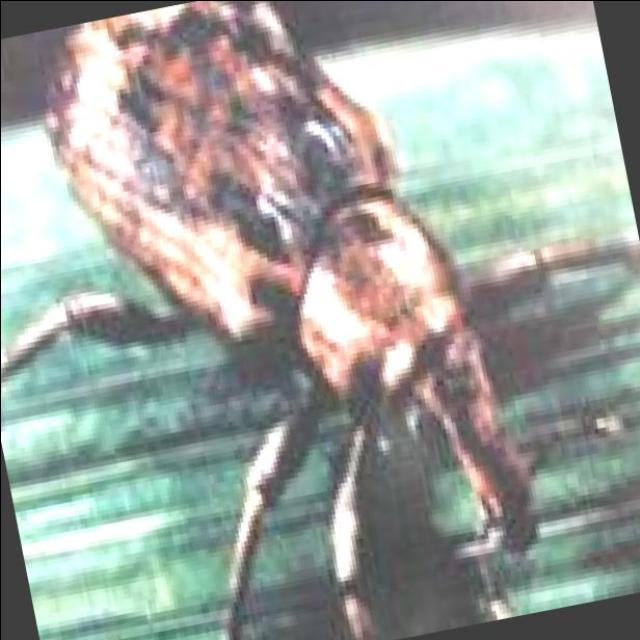ricebug: (0, 0, 637, 640)
